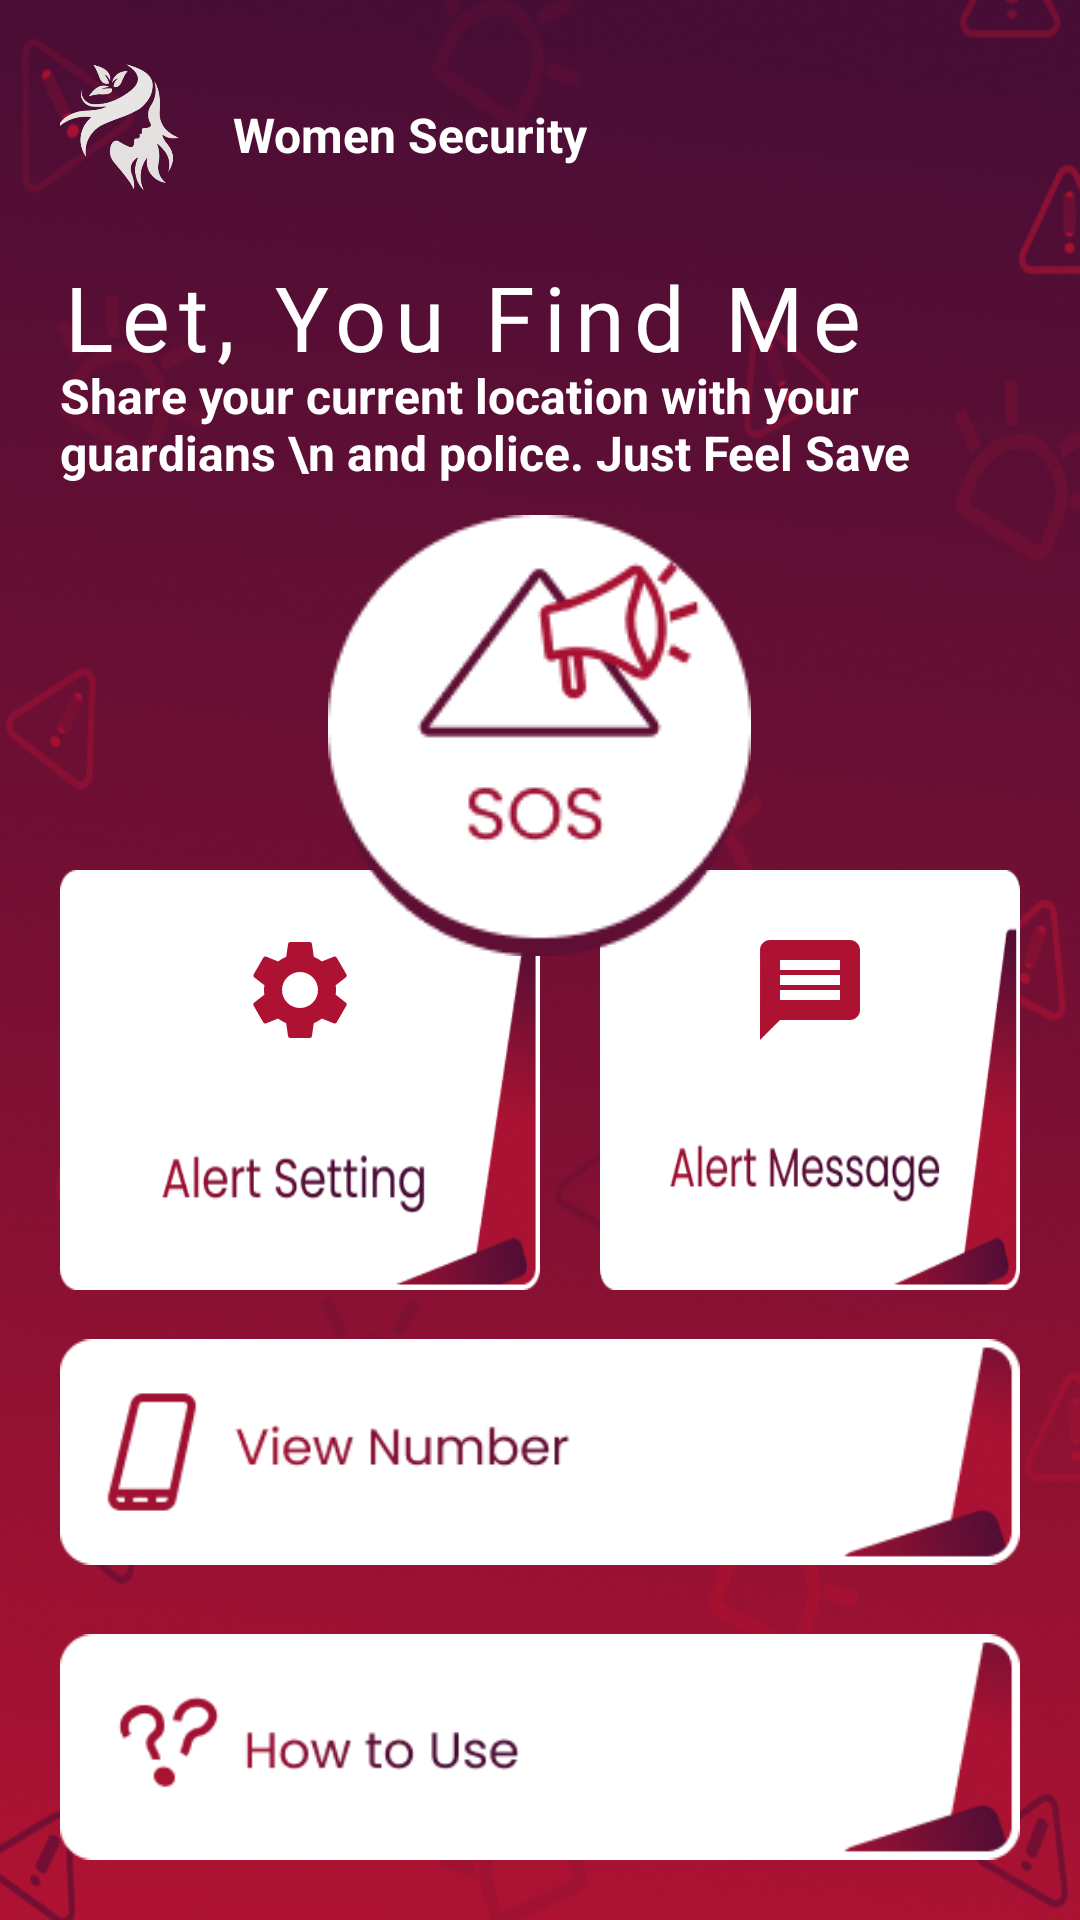

Icons on this 1080*1920 Android screen, each with its box as (x1, y1, x2, y2):
mess: (760, 940, 860, 1040)
setting: (253, 942, 347, 1038)
